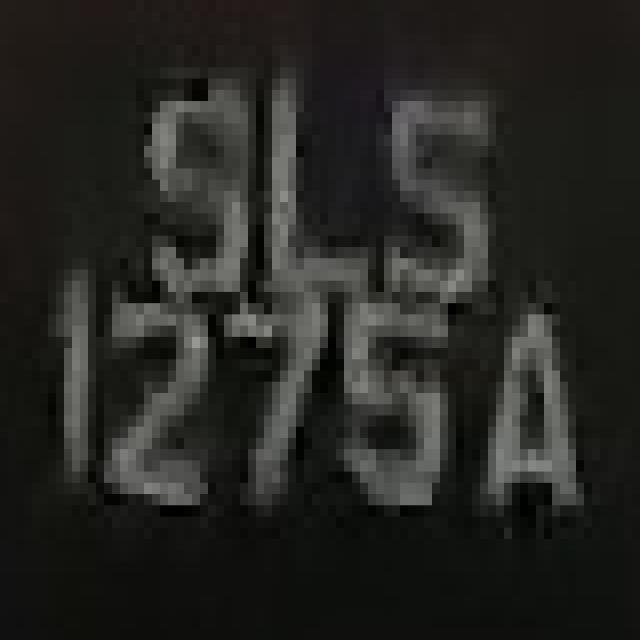1: (40, 225, 96, 494)
2: (72, 269, 216, 562)
5: (328, 258, 456, 528)
7: (192, 258, 328, 550)
A: (464, 258, 592, 562)
L: (256, 45, 384, 281)
S: (136, 56, 272, 326), (368, 56, 504, 303)
